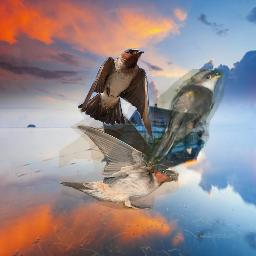Cuckoo: (142, 69, 225, 167)
Swallow: (59, 101, 179, 210), (78, 48, 154, 143)
